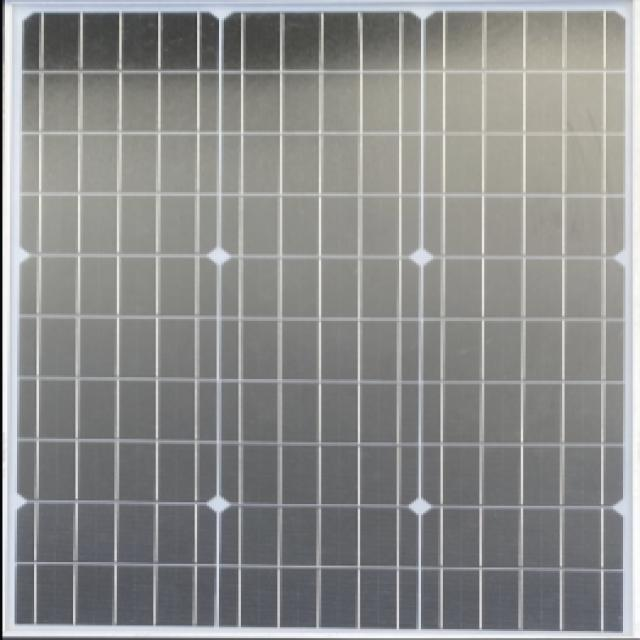clean-solar-panel: (17, 10, 622, 631)
